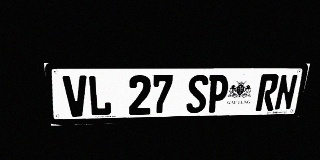2: (129, 75, 151, 115)
7: (151, 75, 173, 114)
L: (87, 75, 112, 116)
N: (274, 74, 298, 111)
P: (206, 75, 230, 113)
R: (255, 74, 280, 111)
S: (186, 75, 209, 113)
V: (62, 75, 89, 117)
